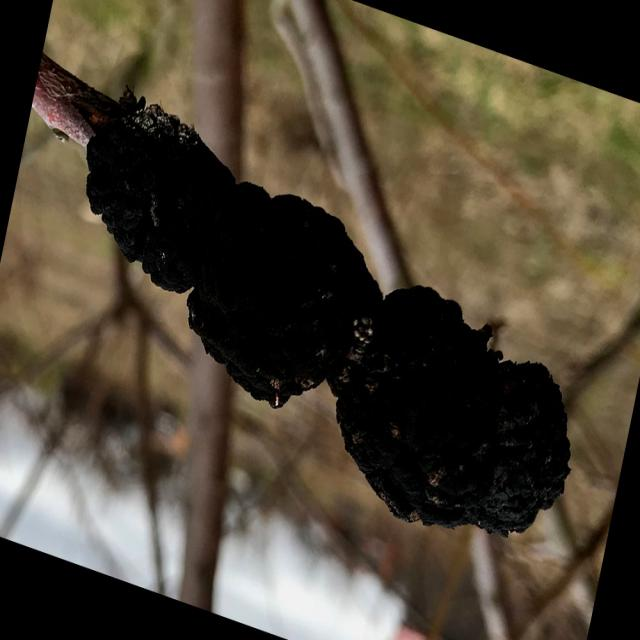Black_knot: (82, 88, 572, 538), (332, 282, 572, 538)
